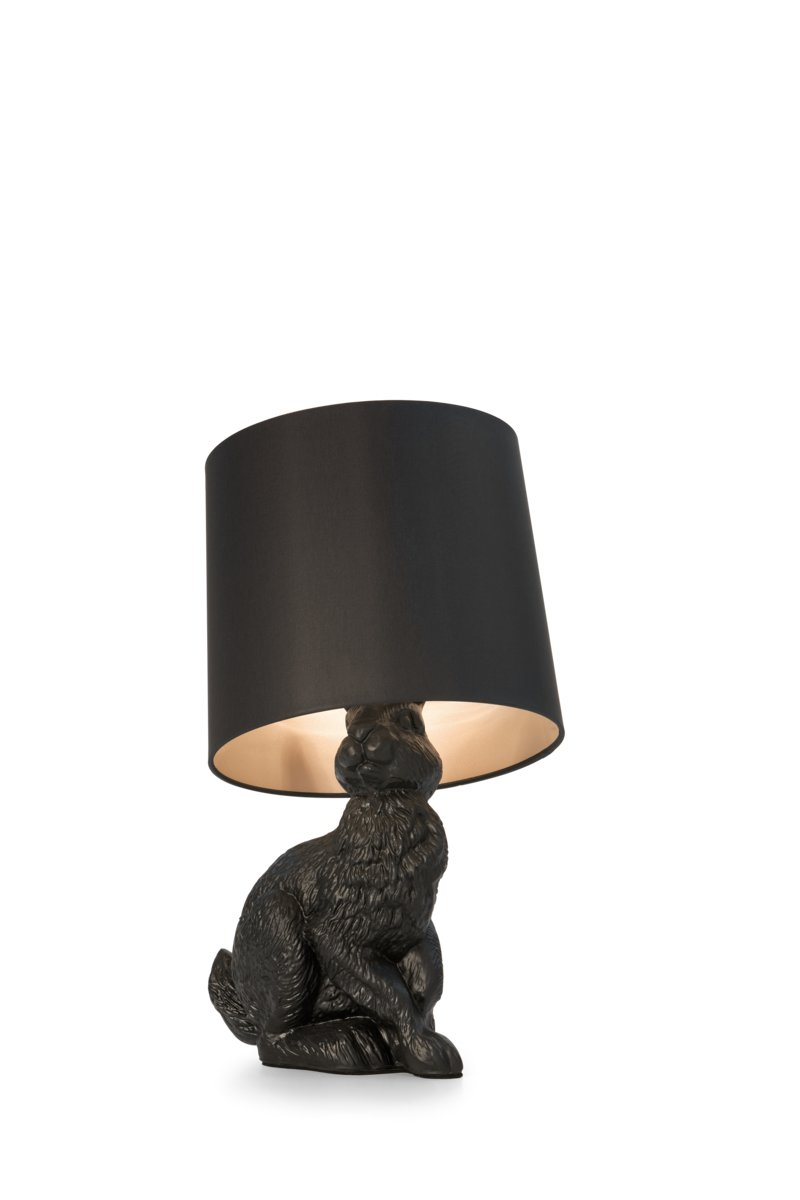lampu: (204, 403, 563, 1074)
